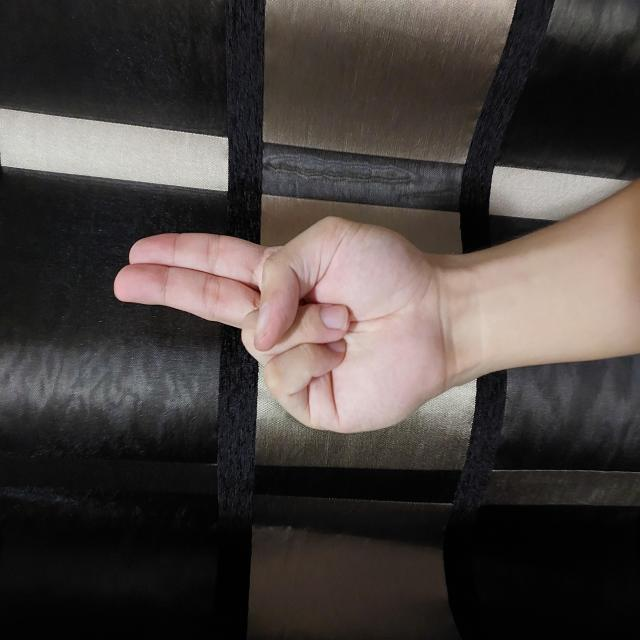U: (204, 112, 426, 442)
